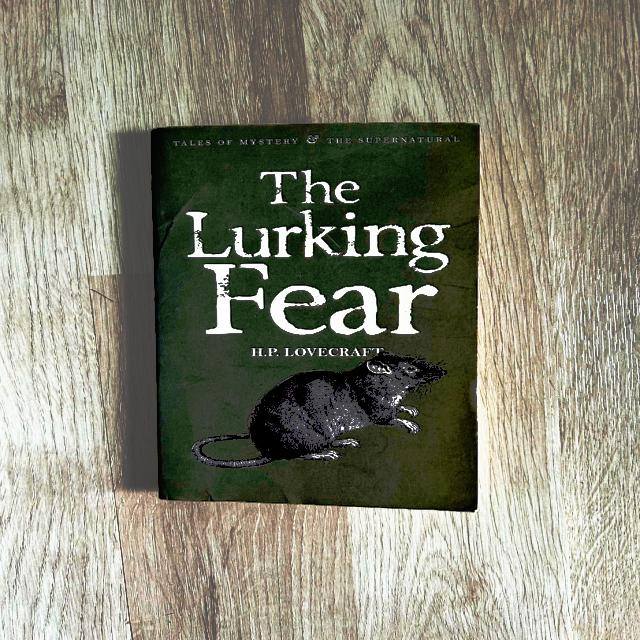Book: (151, 123, 478, 511)
